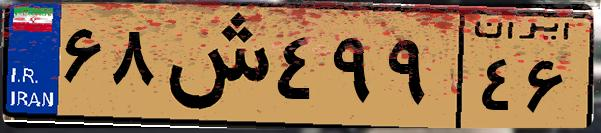4: (270, 28, 330, 110), (475, 38, 525, 113)
6: (57, 26, 110, 100), (525, 38, 570, 115)
8: (110, 28, 158, 98)
9: (385, 28, 445, 110), (330, 28, 385, 110)
ش: (158, 12, 270, 120)
